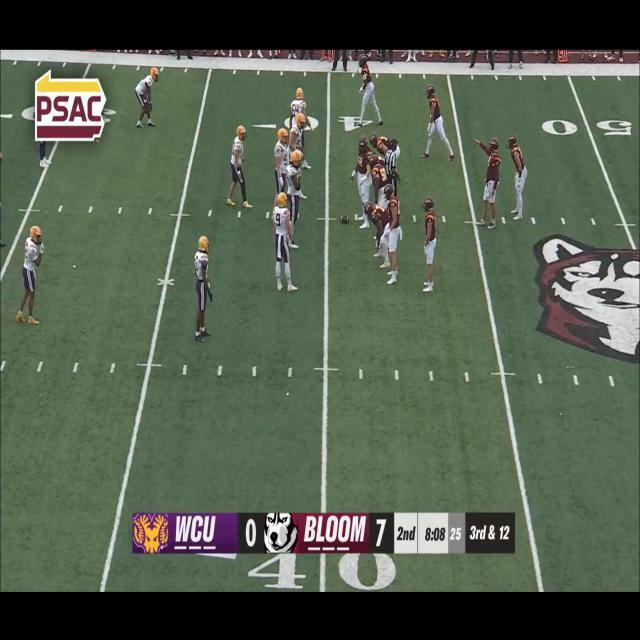football: (339, 214, 352, 225)
